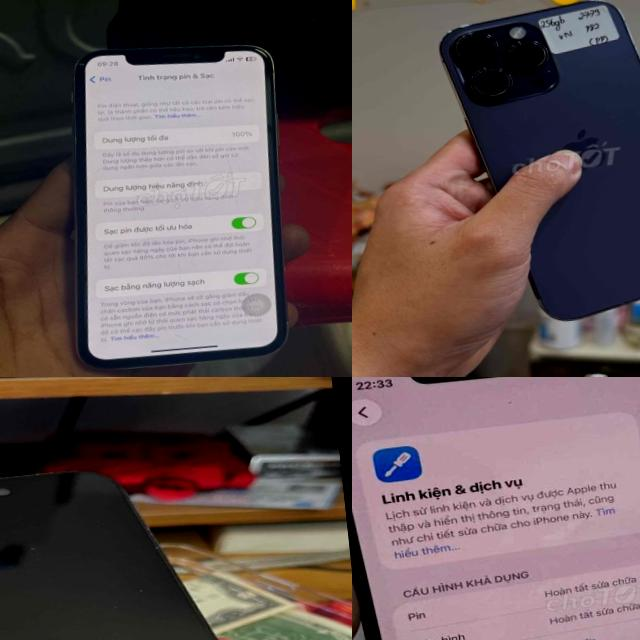gen_12_13: (352, 377, 640, 640)
gen_14: (428, 0, 640, 334), (0, 441, 333, 640)
gen_x_xs: (48, 20, 299, 377)
scratch: (0, 465, 83, 505), (18, 542, 36, 558), (132, 577, 146, 597), (75, 56, 92, 72)
